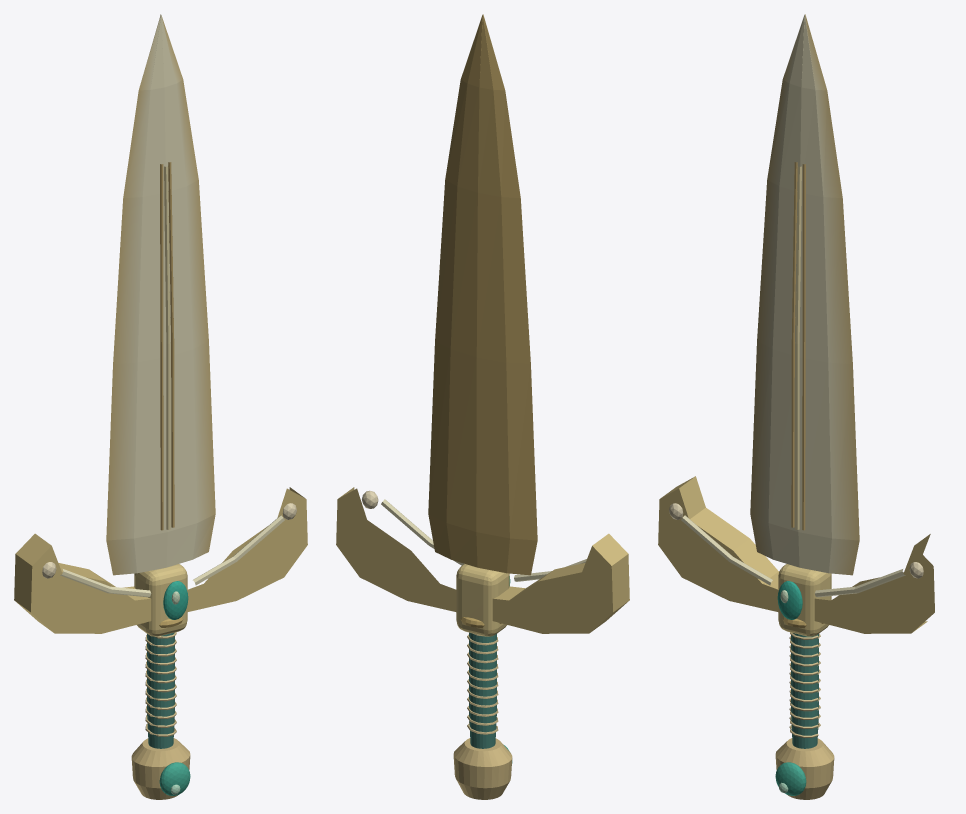
File: heldenzwaard.glb
3 renders of one model, left to right at view 1: azimuth 30°, elevation 25°; view 2: azimuth 150°, elevation 25°; view 3: azimuth 330°, elevation 25°, orthographic.
Parts seen in each view (by area): view 1: heldenzwaard; view 2: heldenzwaard; view 3: heldenzwaard.
Boxes of the visible parts, x1=… form: heldenzwaard: x1=14, y1=14, x2=307, y2=799; heldenzwaard: x1=336, y1=14, x2=629, y2=799; heldenzwaard: x1=658, y1=14, x2=934, y2=799.
Size of the model in its own units: 0.41 by 1.1 by 0.084.
